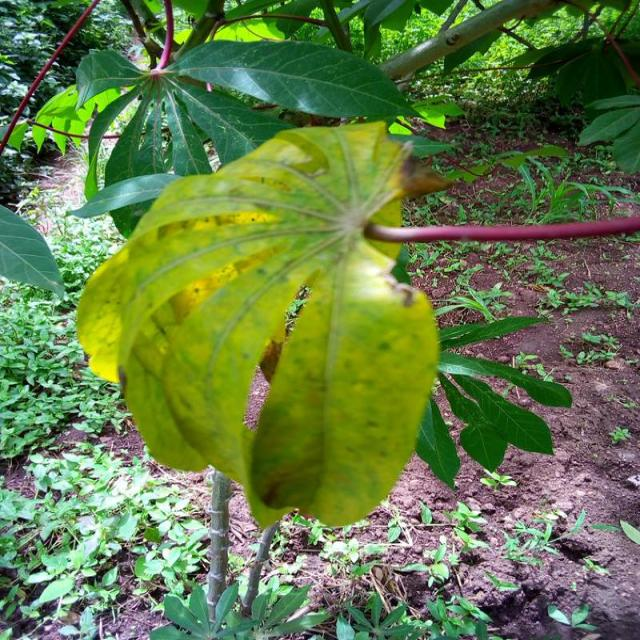cassava leaf: (74, 119, 445, 530)
